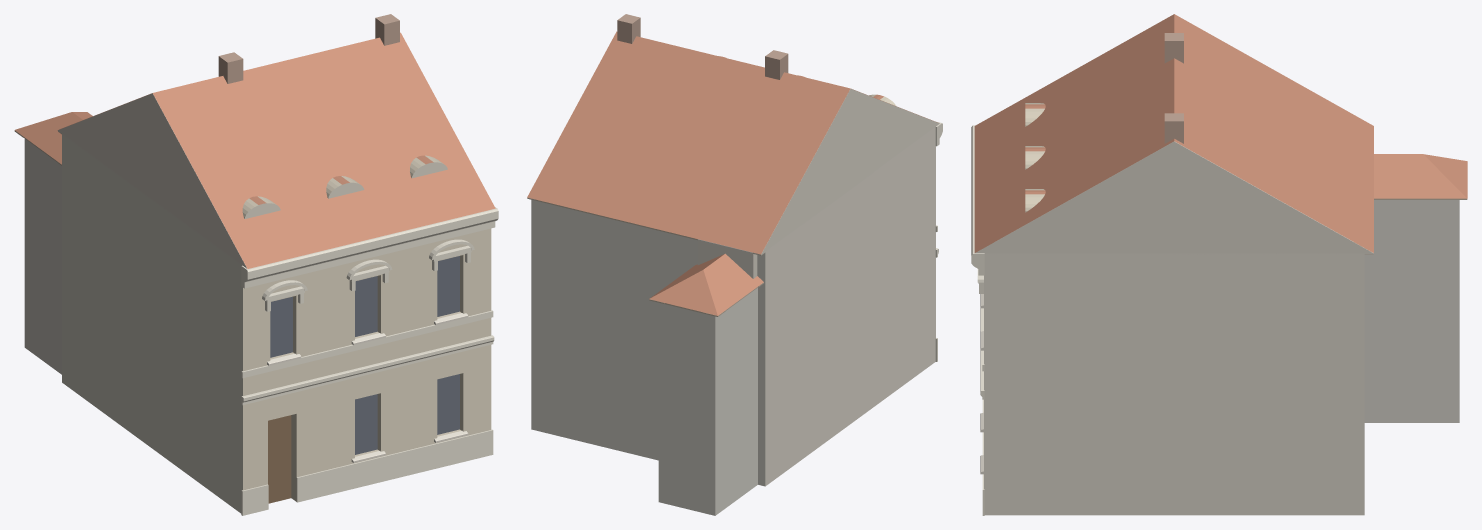
3 renders of one model, left to right at view 1: azimuth 30°, elevation 25°; view 2: azimuth 150°, elevation 25°; view 3: azimuth 270°, elevation 25°, orthographic. The views are drawn at different scales.
Visible parts, largest first — view 1: CP_865_Masonry, CP_865_Roof, CP_865_Gable_L_gable, CP_865_Rear_Annex, CP_865_Cornice_plinth_1, CP_865_Cornice_main_0, CP_865_Cornice_string_0, CP_865_Cornice_sillband_0, CP_865_WingRoof_Rear_Annex, CP_865_Cornice_plinth_0, CP_865_Chimney_0, CP_865_Chimney_1 (+3 smaller); view 2: CP_865_Masonry, CP_865_Roof, CP_865_Rear_Annex, CP_865_Gable_L_gable, CP_865_WingRoof_Rear_Annex, CP_865_AtticClosure_1, CP_865_Chimney_1, CP_865_Chimney_0; view 3: CP_865_Masonry, CP_865_Roof, CP_865_Gable_R_gable, CP_865_Rear_Annex, CP_865_WingRoof_Rear_Annex, CP_865_Cornice_main_0, CP_865_Chimney_1, CP_865_Chimney_0.
Boxes of the visible parts, box(x1,y1,x2,y2) form: CP_865_Masonry: box(62, 133, 491, 513); CP_865_Roof: box(59, 32, 495, 268); CP_865_Gable_L_gable: box(57, 93, 246, 268); CP_865_Rear_Annex: box(24, 139, 61, 374); CP_865_Cornice_plinth_1: box(296, 429, 493, 502); CP_865_Cornice_main_0: box(241, 207, 498, 288); CP_865_Cornice_string_0: box(241, 335, 494, 405); CP_865_Cornice_sillband_0: box(241, 310, 493, 378); CP_865_WingRoof_Rear_Annex: box(15, 112, 92, 164); CP_865_Cornice_plinth_0: box(241, 484, 268, 515); CP_865_Chimney_0: box(218, 52, 243, 83); CP_865_Chimney_1: box(375, 14, 399, 45); CP_865_Masonry: box(531, 127, 935, 486); CP_865_Roof: box(527, 31, 938, 254); CP_865_Rear_Annex: box(658, 288, 757, 515); CP_865_Gable_L_gable: box(754, 88, 939, 254); CP_865_WingRoof_Rear_Annex: box(649, 253, 763, 315); CP_865_AtticClosure_1: box(697, 239, 757, 278); CP_865_Chimney_1: box(617, 14, 640, 43); CP_865_Chimney_0: box(765, 50, 788, 79); CP_865_Masonry: box(984, 253, 1364, 515); CP_865_Roof: box(974, 14, 1373, 252); CP_865_Gable_R_gable: box(975, 141, 1373, 254); CP_865_Rear_Annex: box(1364, 200, 1459, 422); CP_865_WingRoof_Rear_Annex: box(1374, 154, 1467, 198); CP_865_Cornice_main_0: box(971, 125, 984, 275); CP_865_Chimney_1: box(1164, 113, 1183, 143); CP_865_Chimney_0: box(1164, 33, 1183, 63).
Bounding box in the file's own units: 9.6 × 13.62 × 15.65.
